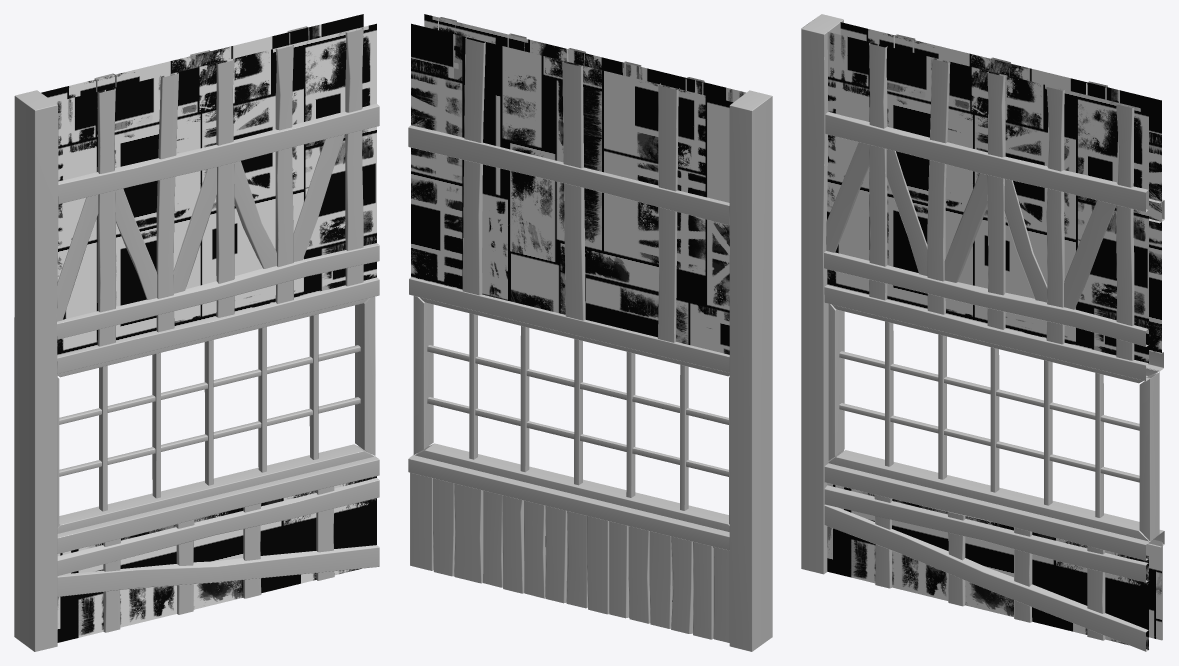
The model's file is SM_WallWindow03.fbx.
The picture shows the model from 3 angles, left to right: view 1: azimuth 30°, elevation 25°; view 2: azimuth 150°, elevation 25°; view 3: azimuth 330°, elevation 25°; orthographic projection.
Parts seen in each view (by area): view 1: SM_WallWindow03_LOD0; view 2: SM_WallWindow03_LOD0; view 3: SM_WallWindow03_LOD0.
Boxes of the visible parts, x1=… form: SM_WallWindow03_LOD0: x1=14, y1=14, x2=379, y2=651; SM_WallWindow03_LOD0: x1=408, y1=14, x2=772, y2=651; SM_WallWindow03_LOD0: x1=801, y1=14, x2=1164, y2=651.
Size of the model in its own units: 300 by 31.09 by 450.
